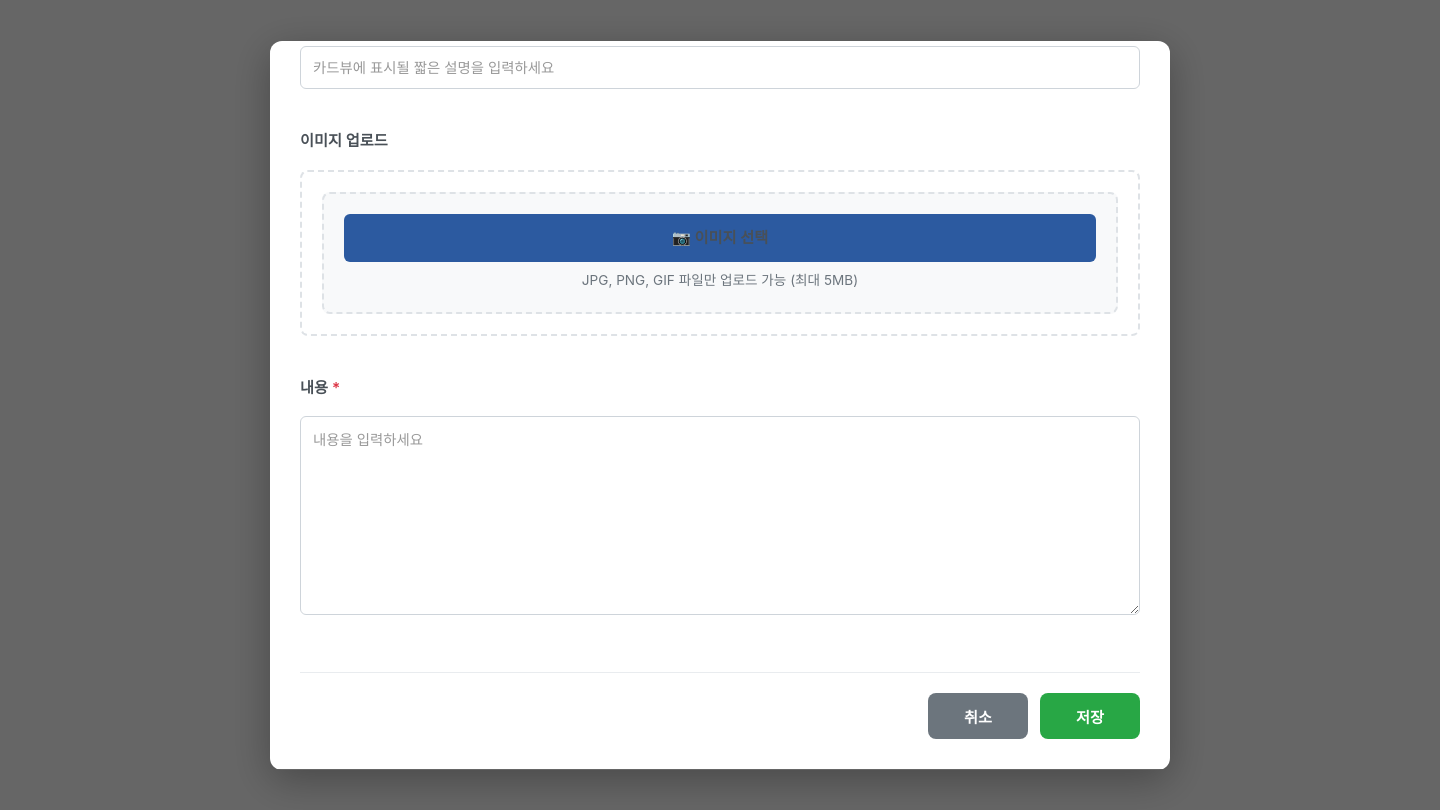
PostForm Component › 필수 필드가 비어있을 때 에러 메시지가 표시된다
This screenshot has width=1440, height=810.
(page scrolled)
Click the button "저장": {"x": 1090, "y": 716} [1040,693,1140,739]
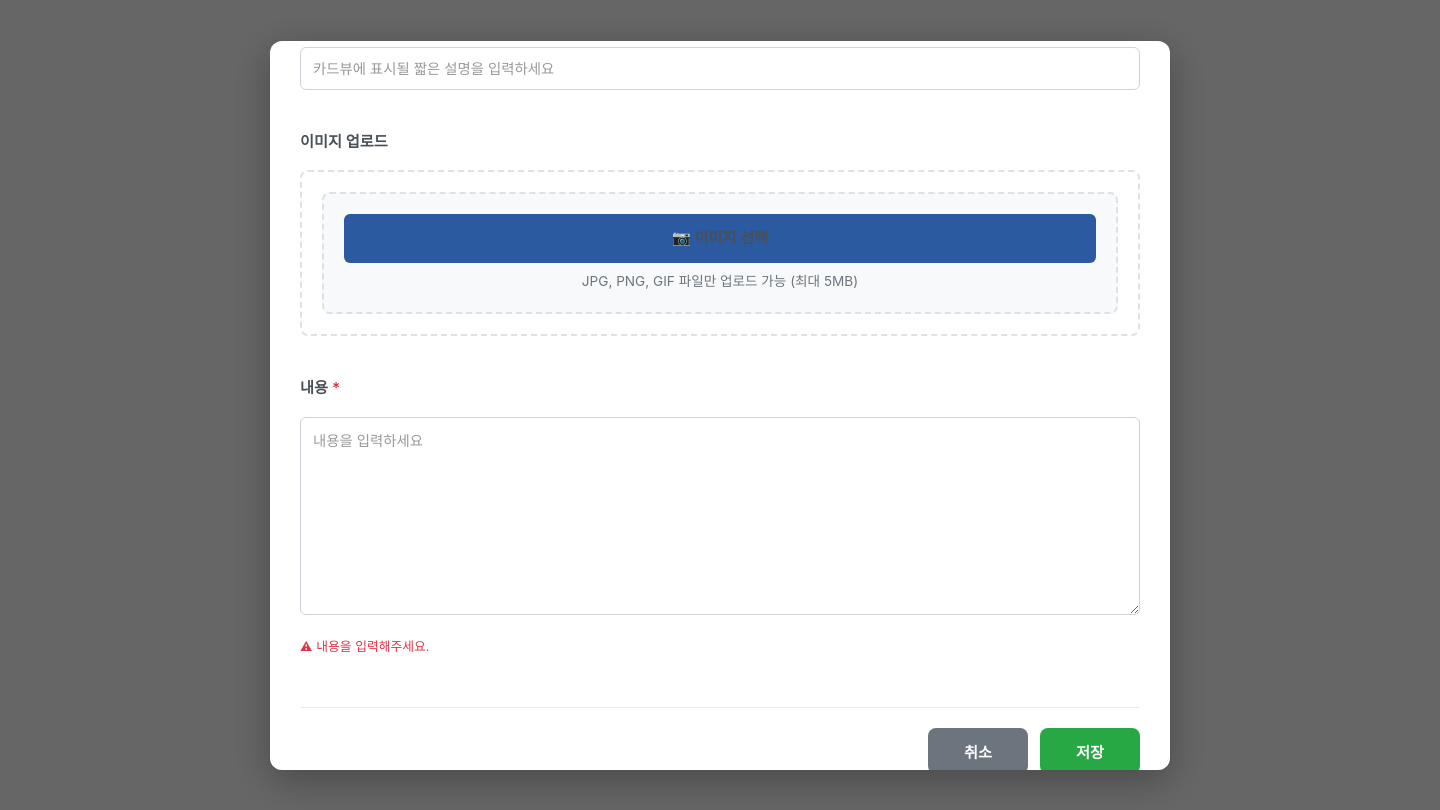
Expected: the text "내용을 입력해주세요." is shown, [316,639,430,654]
